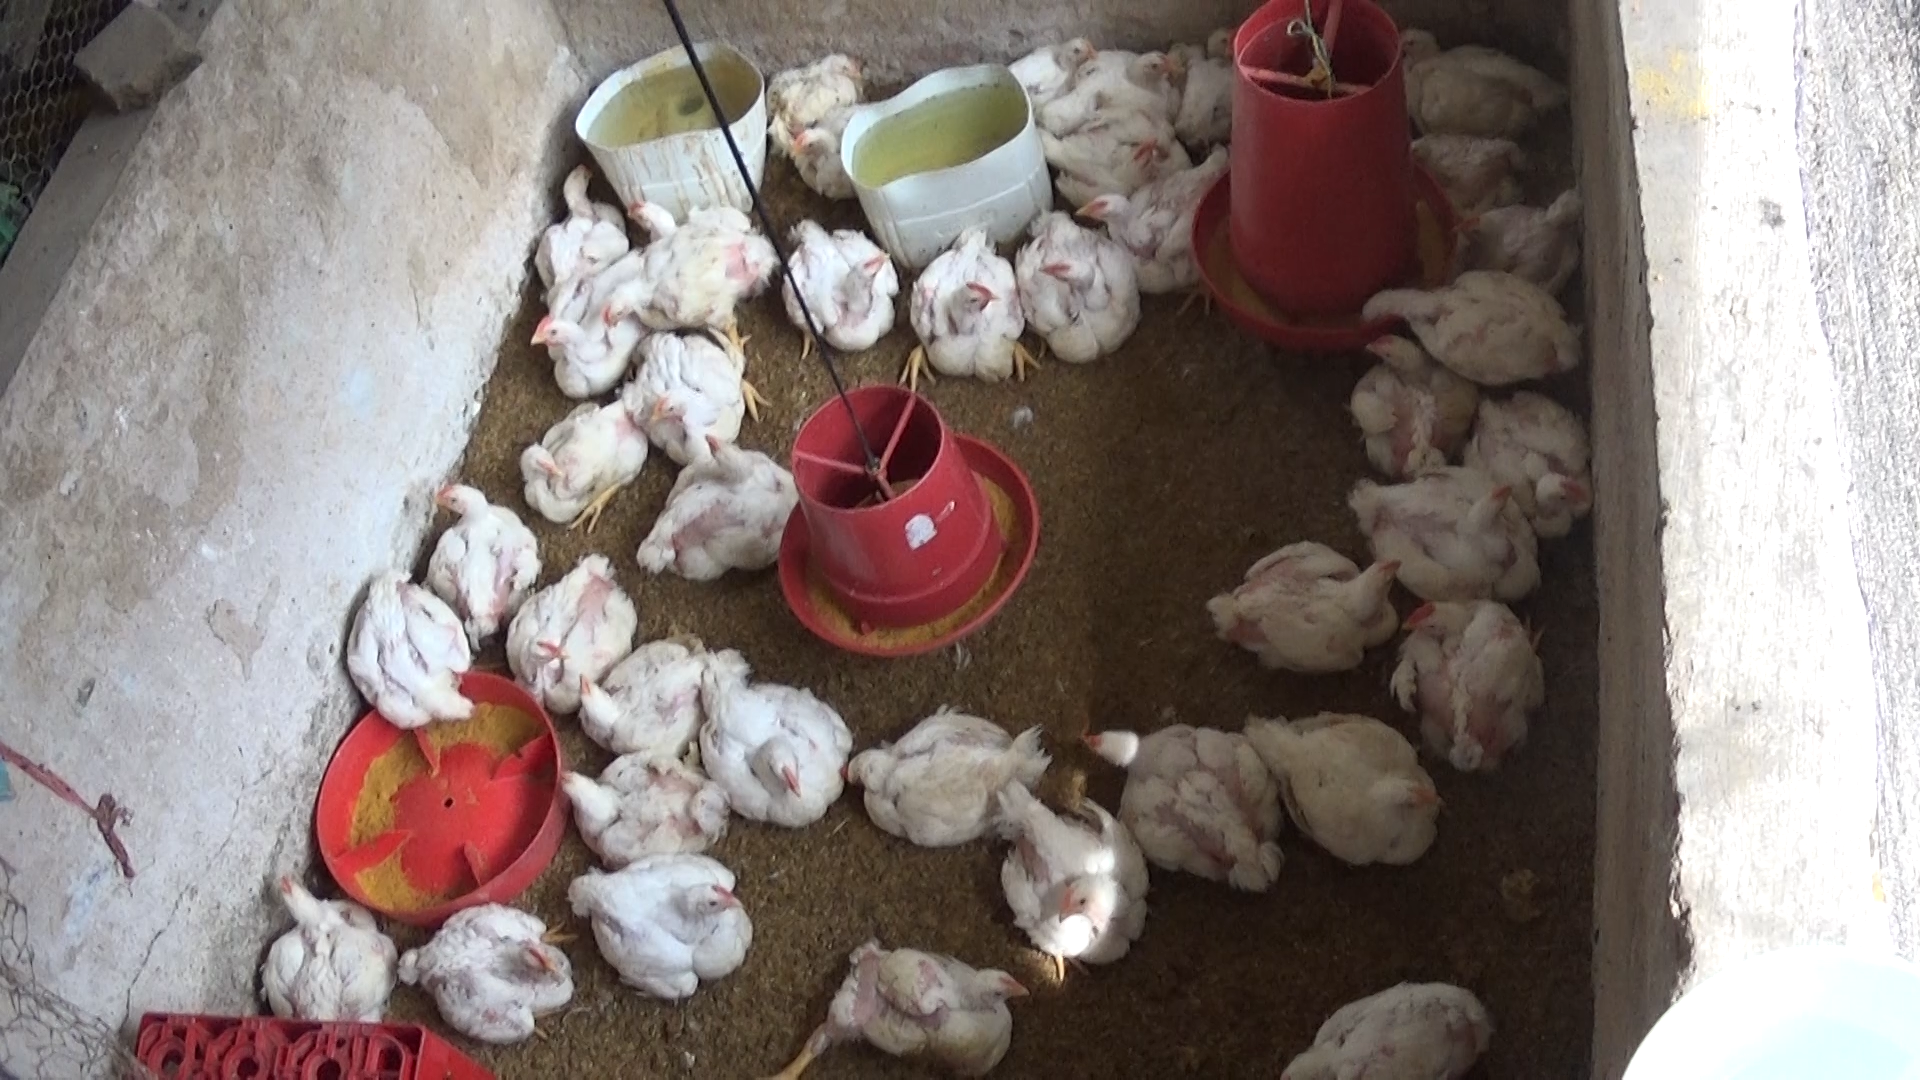Pollos: (1048, 713, 1280, 895), (779, 932, 1035, 1080), (982, 782, 1151, 1002), (1332, 462, 1538, 626), (1350, 262, 1596, 390), (560, 847, 760, 1002), (1386, 585, 1545, 778), (1262, 709, 1443, 877), (829, 703, 1051, 839), (688, 655, 861, 829), (1196, 538, 1393, 683), (1269, 967, 1516, 1079), (1073, 140, 1230, 316), (636, 425, 802, 589), (397, 899, 591, 1038), (256, 858, 394, 1048), (328, 567, 483, 731), (1329, 320, 1480, 487), (553, 752, 727, 891), (901, 227, 1036, 386), (1472, 382, 1607, 541), (1021, 202, 1147, 369), (1389, 20, 1568, 137), (527, 239, 654, 401), (603, 194, 777, 310), (514, 547, 638, 709), (425, 472, 546, 630), (514, 392, 653, 526), (562, 637, 707, 760), (622, 324, 746, 467), (781, 214, 905, 353), (1429, 179, 1598, 276), (1036, 105, 1195, 200), (524, 161, 624, 291), (1054, 36, 1187, 128), (1408, 117, 1542, 208), (769, 47, 861, 150), (790, 109, 873, 206), (1006, 34, 1101, 94)
